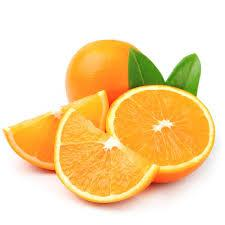orange: (98, 86, 225, 190), (49, 119, 179, 211), (0, 94, 106, 154), (66, 46, 156, 95)
